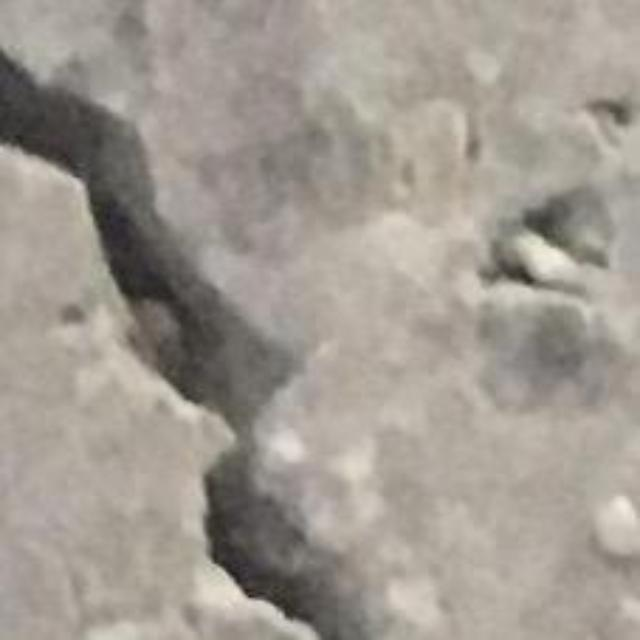crack: (0, 48, 366, 639)
